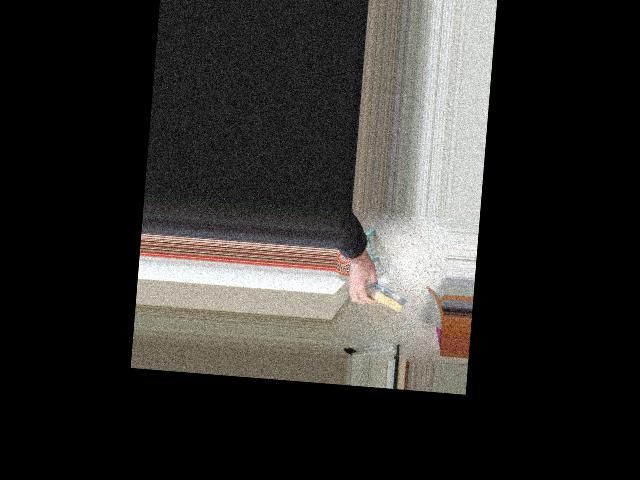cheese: (341, 268, 411, 327)
